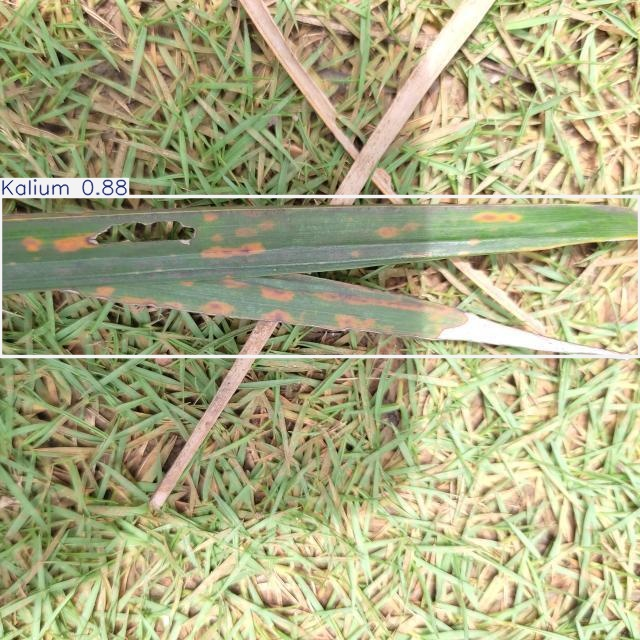Kalium: (0, 197, 640, 356)
